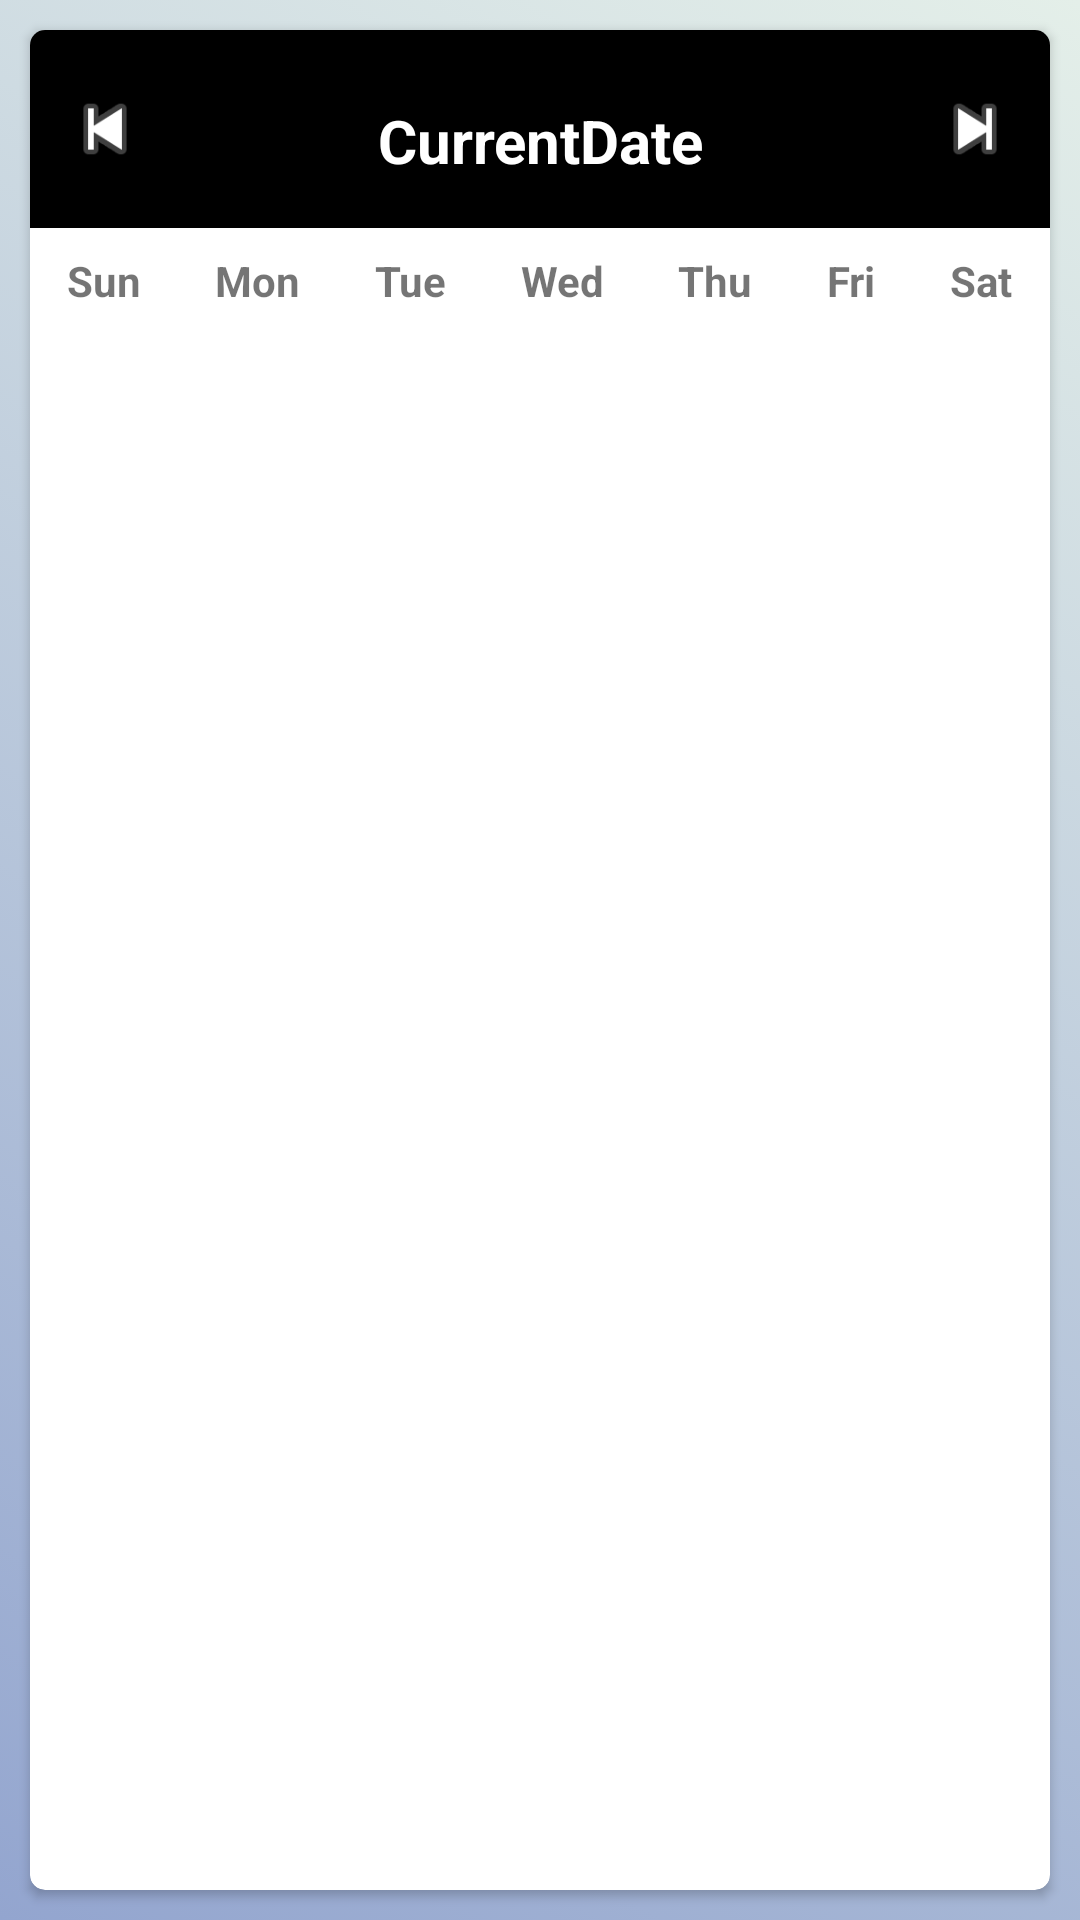

Screen size 1080×1920. Icon name, then its box in pixels as (x1,y1,x2,y2):
next: (953,104,997,154)
previous: (83,104,127,154)
